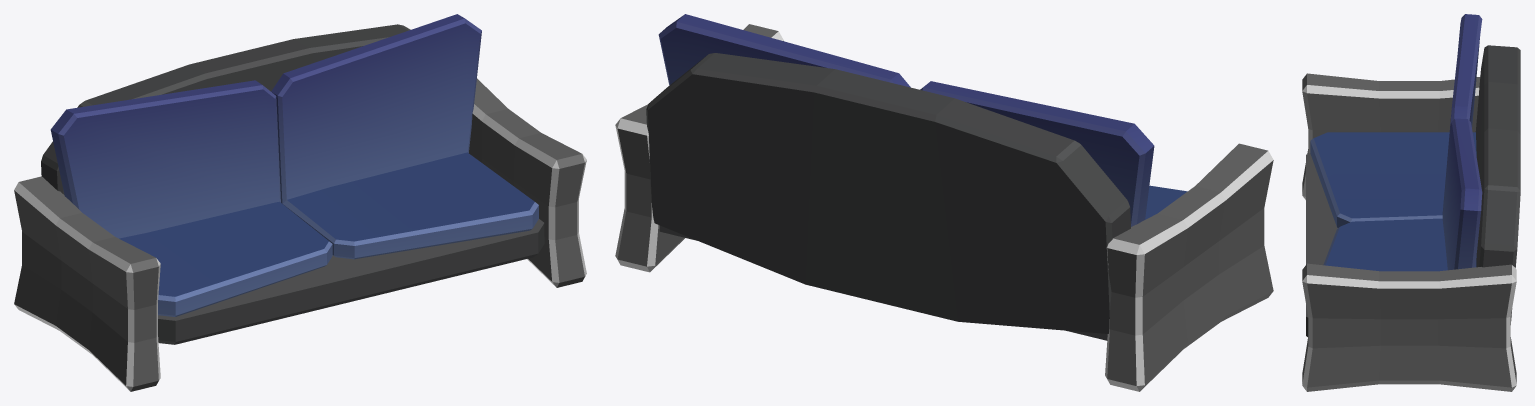
The model's file is sofa.fbx.
3 views of the same model, side by side, from view 1: azimuth 30°, elevation 25°; view 2: azimuth 150°, elevation 25°; view 3: azimuth 270°, elevation 25° (orthographic). The views are drawn at different scales.
Parts seen in each view (by area): view 1: sofa; view 2: sofa; view 3: sofa.
Boxes of the visible parts, left/top/right/bottom form: sofa: left=14, top=14, right=586, bottom=391; sofa: left=615, top=14, right=1273, bottom=391; sofa: left=1302, top=14, right=1520, bottom=391.
Size of the model in its own units: 489 by 211 by 220.
